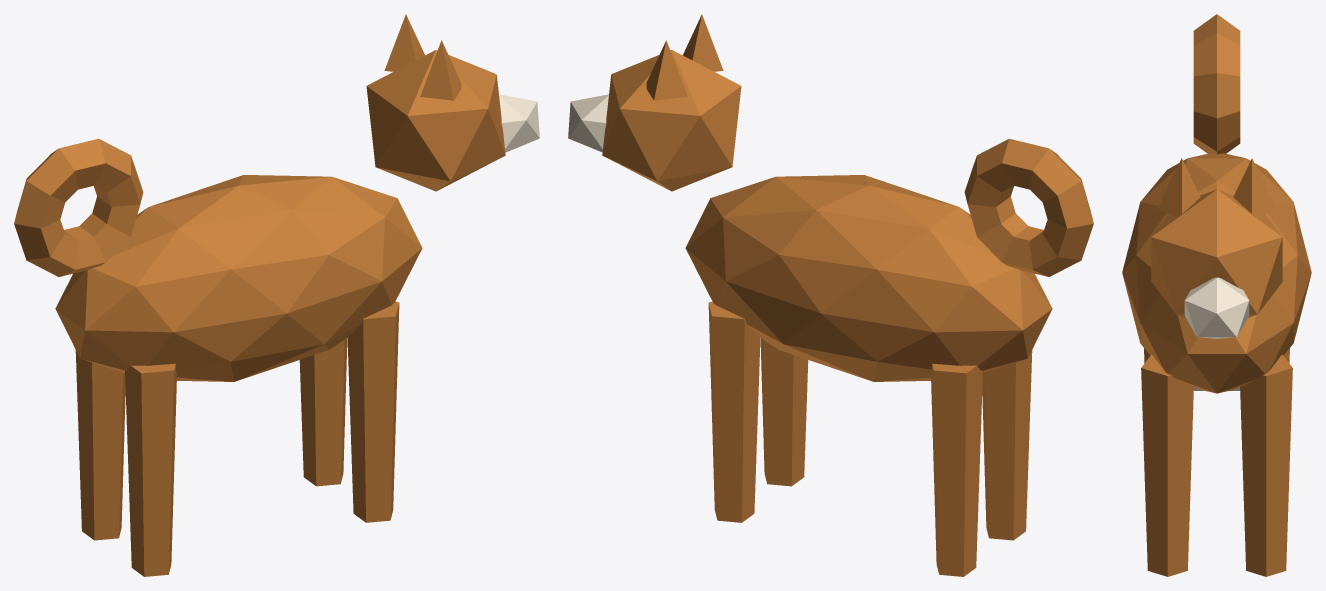
File: shiba.glb
3 renders of one model, left to right at view 1: azimuth 30°, elevation 25°; view 2: azimuth 150°, elevation 25°; view 3: azimuth 270°, elevation 25°, orthographic.
Visible parts, largest first — view 1: shiba; view 2: shiba; view 3: shiba.
Boxes of the visible parts, bbox=[...] form: shiba: bbox=[14, 14, 539, 576]; shiba: bbox=[568, 14, 1093, 576]; shiba: bbox=[1122, 14, 1311, 576].
Bounding box in the file's own units: 0.8494 × 0.7 × 0.27.
